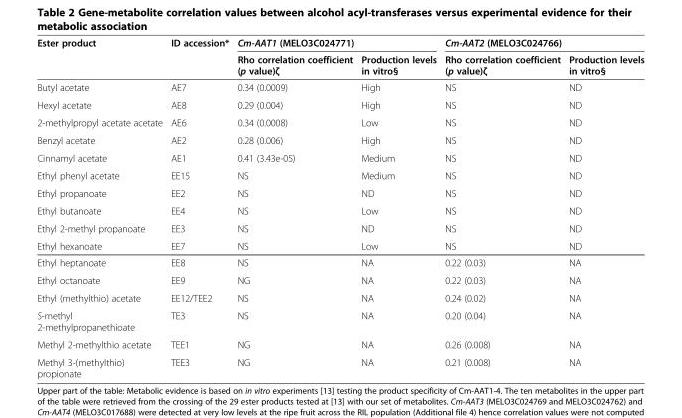table: (36, 36, 643, 378)
table column: (36, 36, 166, 378), (232, 36, 356, 378), (440, 36, 564, 378), (356, 36, 440, 378), (564, 36, 643, 378), (166, 36, 232, 378)
table column header: (36, 36, 643, 78)
table row: (36, 306, 643, 335), (36, 50, 643, 78), (36, 353, 643, 378), (36, 95, 643, 113), (36, 113, 643, 131), (36, 148, 643, 166), (36, 166, 643, 184), (36, 201, 643, 219), (36, 253, 643, 271), (36, 288, 643, 306), (36, 335, 643, 353), (36, 78, 643, 95), (36, 131, 643, 148), (36, 184, 643, 201), (36, 219, 643, 236), (36, 236, 643, 253), (36, 271, 643, 288), (36, 36, 643, 50)
table spanning cell: (36, 36, 166, 78), (232, 36, 440, 50), (440, 36, 643, 50), (166, 36, 232, 78)
